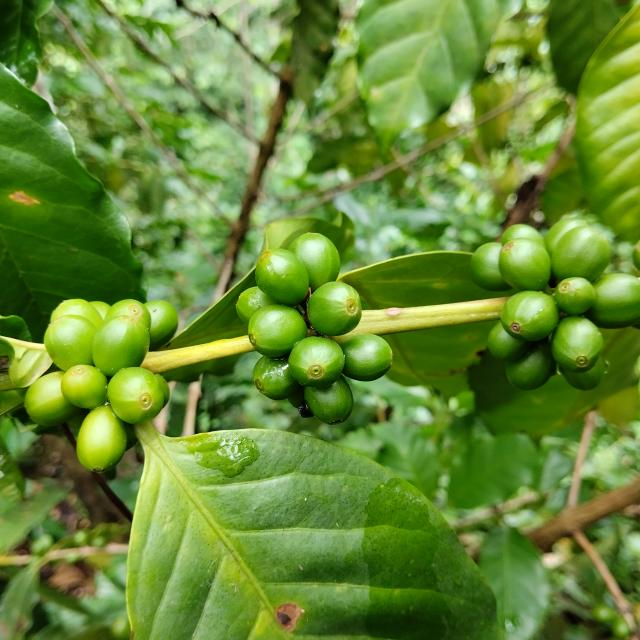green: (91, 315, 149, 377), (76, 405, 127, 474), (552, 225, 612, 282), (106, 367, 163, 424), (248, 304, 307, 357), (24, 371, 79, 427), (288, 232, 340, 291), (586, 273, 640, 329), (288, 336, 345, 389), (501, 290, 560, 341), (43, 315, 96, 371), (552, 316, 604, 373), (308, 282, 362, 336), (500, 238, 552, 291), (507, 340, 557, 391), (304, 375, 354, 425), (341, 334, 393, 382), (253, 356, 300, 401), (60, 365, 107, 409), (470, 242, 512, 291), (488, 322, 532, 362), (144, 300, 178, 351), (554, 277, 597, 315), (545, 218, 589, 255), (49, 299, 103, 328), (235, 286, 276, 324), (103, 299, 151, 330), (502, 224, 546, 247), (154, 374, 170, 408), (89, 301, 110, 320)
